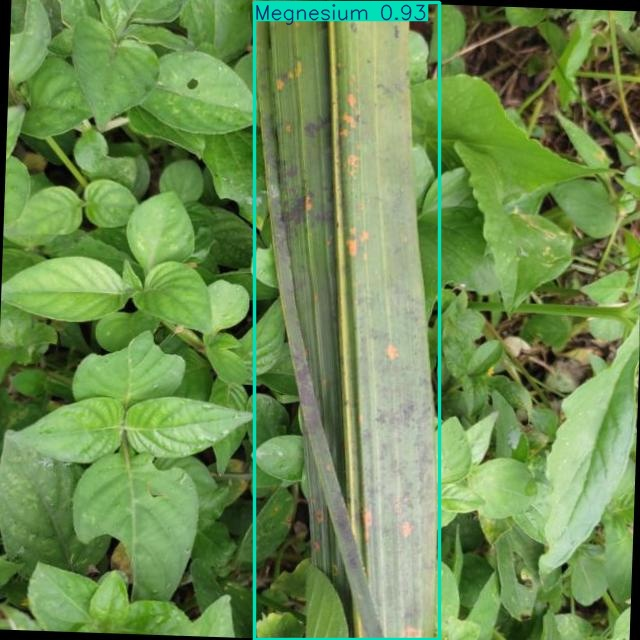Megnesium: (255, 2, 440, 640)
